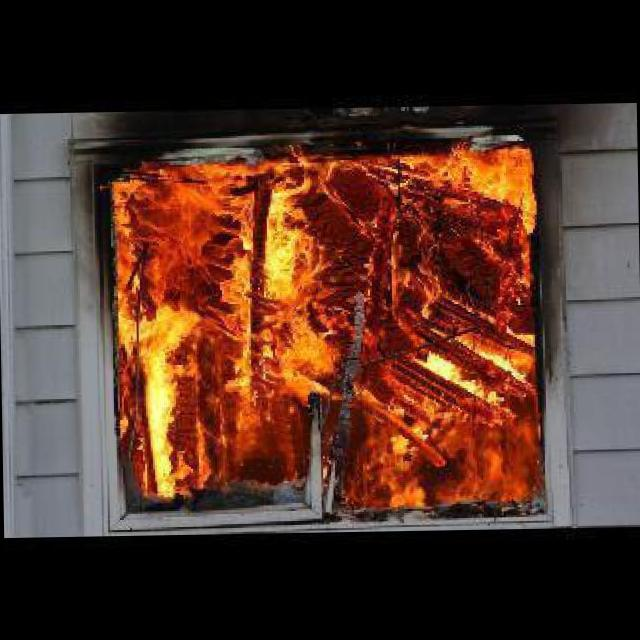Fire: (107, 138, 547, 516)
